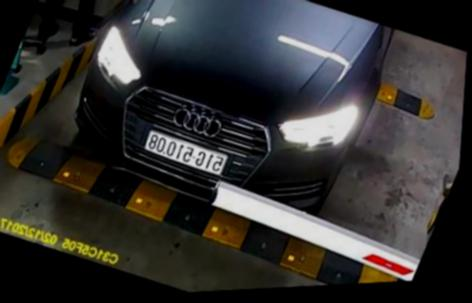License_Plate: (135, 126, 236, 181)
